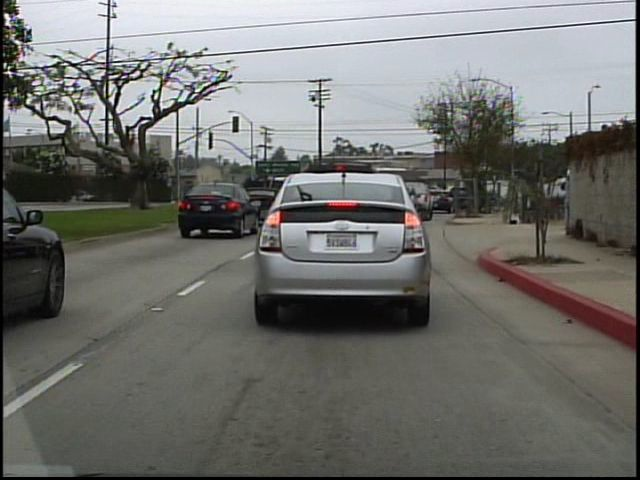person: (555, 163, 577, 242)
